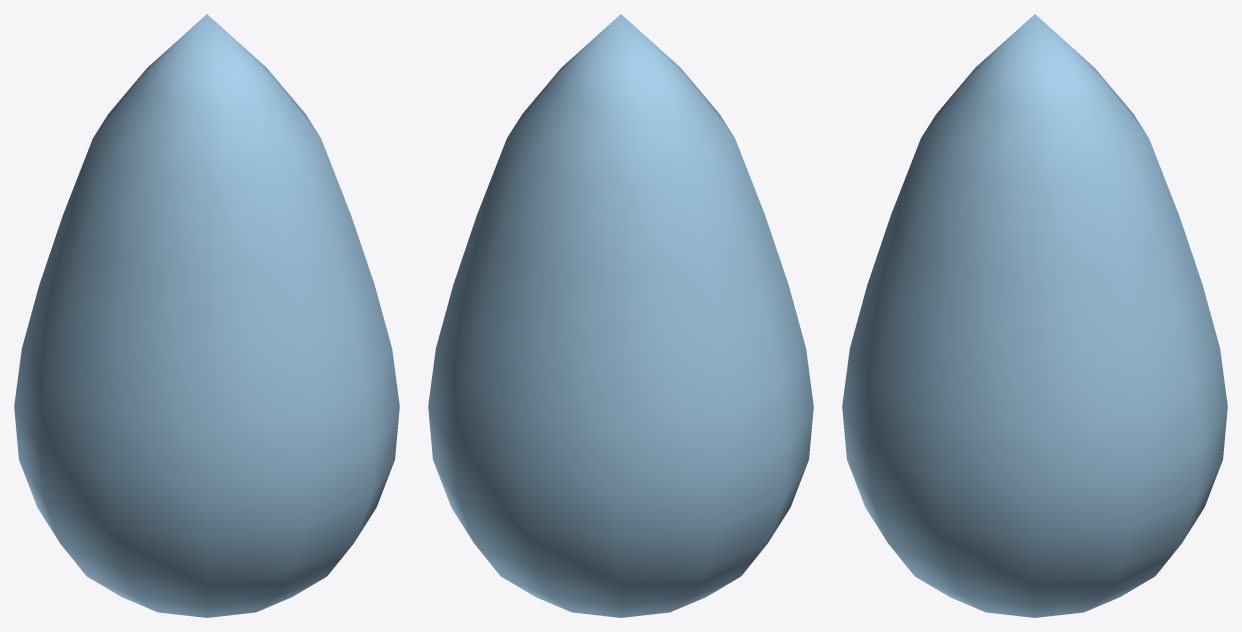
File: drop_water.fbx
The picture shows the model from 3 angles, left to right: view 1: azimuth 30°, elevation 25°; view 2: azimuth 150°, elevation 25°; view 3: azimuth 270°, elevation 25°; orthographic projection.
Parts seen in each view (by area): view 1: water_drop1; view 2: water_drop1; view 3: water_drop1.
Boxes of the visible parts, left/top/right/bottom form: water_drop1: left=14, top=14, right=399, bottom=617; water_drop1: left=428, top=14, right=813, bottom=617; water_drop1: left=842, top=14, right=1227, bottom=617.
Bounding box in the file's own units: 5.45 × 9.15 × 5.45.
